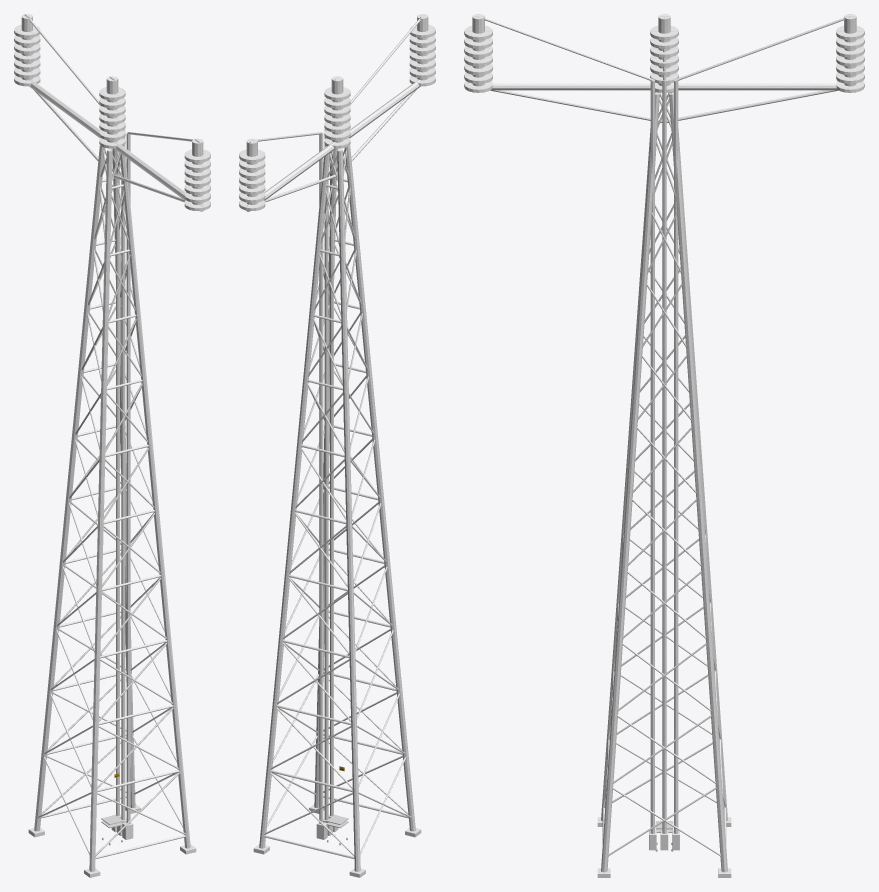
The model's file is steelriser230.obj.
3 renders of one model, left to right at view 1: azimuth 30°, elevation 25°; view 2: azimuth 150°, elevation 25°; view 3: azimuth 270°, elevation 25°, orthographic. The views are drawn at different scales.
Parts seen in each view (by area): view 1: main, Bus, Porcelain; view 2: main, Bus, Porcelain; view 3: main, Bus, Porcelain.
Boxes of the visible parts, box(x1,y1,x2,y2) form: main: box(28, 79, 203, 877); Bus: box(24, 14, 200, 823); Porcelain: box(14, 14, 210, 210); main: box(246, 79, 421, 877); Bus: box(249, 14, 425, 823); Porcelain: box(239, 14, 435, 210); main: box(469, 83, 859, 877); Bus: box(474, 15, 854, 833); Porcelain: box(464, 14, 864, 92).
Size of the model in its own units: 3.46 by 23.77 by 10.35.
